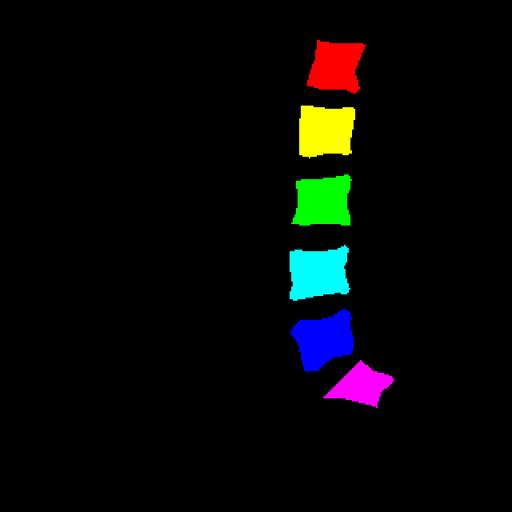L1: (307, 40, 366, 94)
L2: (299, 105, 355, 158)
L3: (292, 174, 351, 226)
L4: (290, 245, 350, 301)
L5: (291, 309, 354, 372)
S1: (324, 360, 393, 408)
